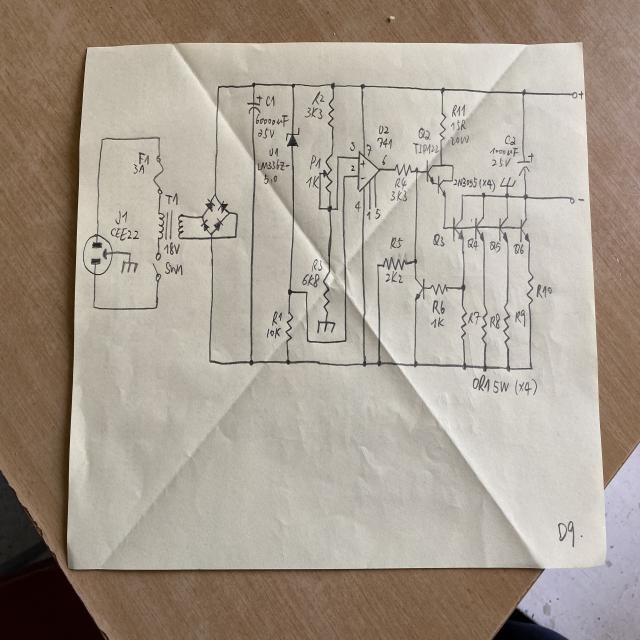capacitor: (514, 151, 536, 176), (245, 94, 264, 116)
crossover: (210, 236, 212, 240)
diode: (284, 126, 301, 150), (204, 197, 216, 213), (217, 199, 228, 215), (213, 218, 222, 232), (201, 219, 210, 232)
ground: (120, 258, 138, 276), (316, 320, 336, 334), (499, 175, 515, 188)
junction: (439, 85, 449, 97), (460, 362, 468, 372), (284, 356, 292, 366), (286, 287, 294, 296), (289, 81, 297, 90), (459, 283, 466, 293), (329, 80, 336, 90), (248, 357, 255, 367), (376, 358, 383, 368), (361, 359, 368, 368), (505, 364, 512, 373), (412, 359, 418, 369), (250, 80, 257, 88), (480, 191, 487, 199), (359, 82, 366, 90), (521, 88, 527, 97), (305, 336, 311, 345), (327, 204, 333, 213), (334, 204, 340, 213), (304, 288, 310, 297), (522, 192, 528, 200), (153, 304, 159, 312), (207, 357, 213, 365), (504, 192, 510, 200), (316, 204, 322, 212), (100, 135, 106, 143), (459, 191, 465, 199), (342, 336, 348, 344), (335, 152, 341, 160), (413, 256, 418, 265), (415, 166, 420, 175), (216, 83, 222, 90), (91, 303, 97, 310), (374, 262, 380, 269), (482, 365, 488, 372), (234, 210, 239, 218), (232, 232, 237, 240), (450, 162, 455, 170), (156, 134, 161, 141), (528, 364, 533, 371), (127, 250, 131, 256), (342, 174, 346, 178), (451, 178, 454, 183), (442, 225, 445, 230), (201, 214, 204, 218), (440, 162, 442, 168), (318, 171, 321, 175), (228, 210, 230, 214), (214, 192, 216, 195), (210, 232, 212, 234)
resistor: (322, 153, 334, 194), (322, 271, 332, 314), (457, 303, 468, 342), (382, 255, 407, 271), (502, 304, 511, 348), (326, 98, 336, 132), (284, 310, 294, 344), (438, 110, 447, 143), (526, 270, 534, 307), (393, 162, 414, 176), (480, 313, 488, 344), (430, 283, 448, 295)
switch: (149, 251, 162, 281)
terminal: (568, 196, 575, 204), (572, 90, 578, 99), (368, 207, 372, 210), (374, 205, 377, 209)
text: (453, 176, 496, 193), (252, 113, 289, 129), (469, 373, 492, 396), (110, 225, 140, 242), (256, 158, 290, 172), (513, 377, 537, 396), (412, 142, 440, 158), (534, 282, 554, 300), (164, 260, 185, 276), (513, 306, 528, 328), (429, 316, 447, 334), (302, 272, 321, 288), (490, 147, 520, 157), (384, 271, 405, 285), (492, 378, 509, 395), (164, 240, 182, 256), (416, 126, 434, 142), (376, 135, 394, 150), (466, 309, 481, 327), (304, 106, 323, 120), (488, 312, 502, 331), (257, 127, 277, 140), (114, 209, 129, 226), (431, 232, 446, 249), (390, 189, 408, 203), (492, 156, 512, 168), (431, 299, 446, 315), (305, 174, 320, 189), (310, 90, 325, 105), (266, 325, 282, 339), (136, 150, 150, 166), (450, 134, 470, 145), (164, 192, 179, 206), (451, 104, 466, 118), (263, 172, 279, 185), (376, 122, 392, 135), (450, 119, 467, 131), (388, 236, 402, 250), (394, 177, 408, 191), (488, 239, 502, 253), (466, 236, 479, 250), (132, 162, 146, 175), (309, 154, 321, 169), (264, 94, 276, 109), (271, 309, 282, 325), (513, 242, 525, 256), (266, 146, 280, 158), (310, 258, 322, 271), (504, 134, 516, 146), (348, 140, 357, 154), (353, 200, 361, 214), (366, 144, 373, 158), (576, 195, 586, 204), (374, 208, 381, 220), (381, 154, 387, 166), (366, 210, 372, 221), (349, 163, 355, 173), (360, 159, 366, 168), (579, 90, 583, 98), (360, 175, 366, 180)
transformer: (155, 208, 184, 244)
transistor: (495, 214, 510, 244), (516, 215, 531, 244), (472, 215, 486, 244), (412, 276, 427, 301), (450, 216, 464, 242), (424, 159, 436, 186), (437, 175, 448, 198)
